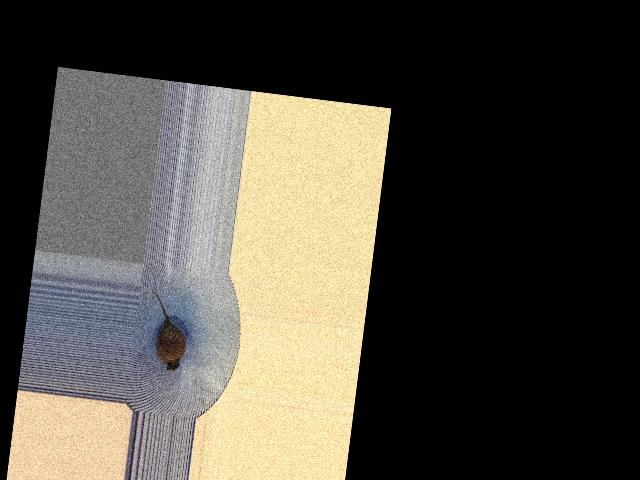beet: (143, 292, 191, 372)
